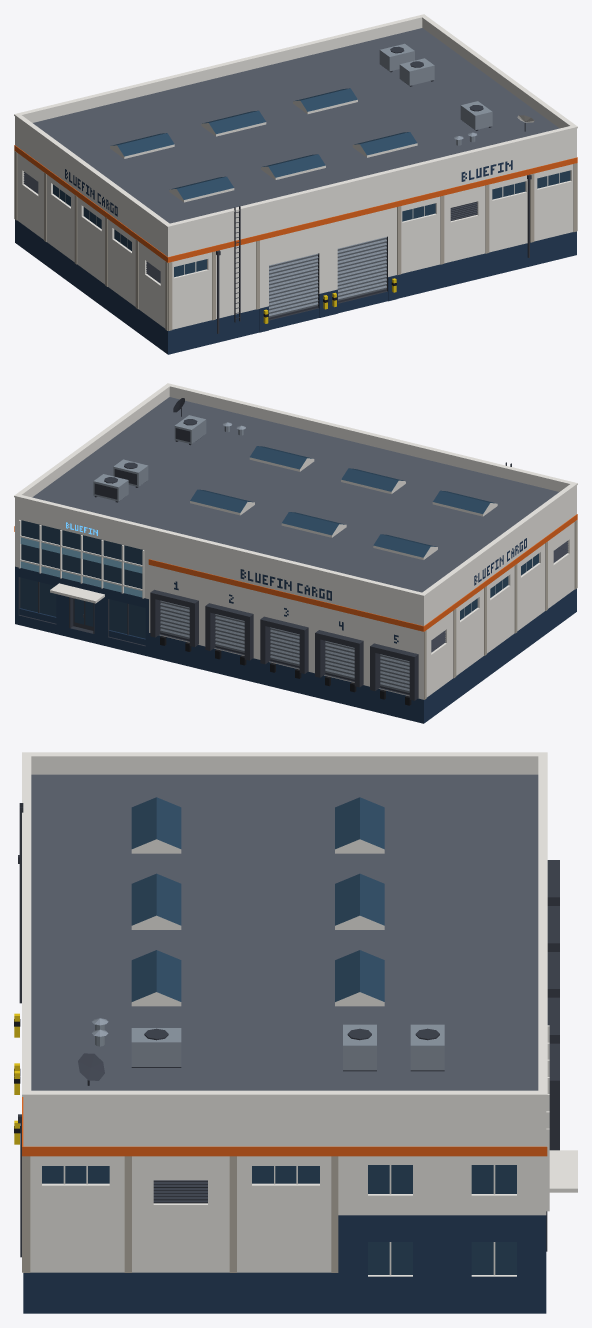
File: warehouse_d.glb
The picture shows the model from 3 angles, top to bottom: view 1: azimuth 30°, elevation 25°; view 2: azimuth 150°, elevation 25°; view 3: azimuth 270°, elevation 25°; orthographic projection. The views are drawn at different scales.
Visible parts, largest first — view 1: Building, Building_Glass, Building_Detail; view 2: Building, Building_Glass, Building_Detail; view 3: Building, Building_Glass, Building_Detail.
Boxes of the visible parts, x1,y1,x2,y2 form: Building: [14, 14, 577, 354]; Building_Glass: [53, 88, 570, 277]; Building_Detail: [379, 43, 534, 145]; Building: [14, 383, 577, 723]; Building_Glass: [20, 446, 538, 638]; Building_Detail: [50, 398, 411, 705]; Building: [14, 752, 559, 1313]; Building_Glass: [42, 797, 516, 1274]; Building_Detail: [78, 1018, 577, 1192].
Bounding box in the file's own units: 35.82 × 11.29 × 24.96.
